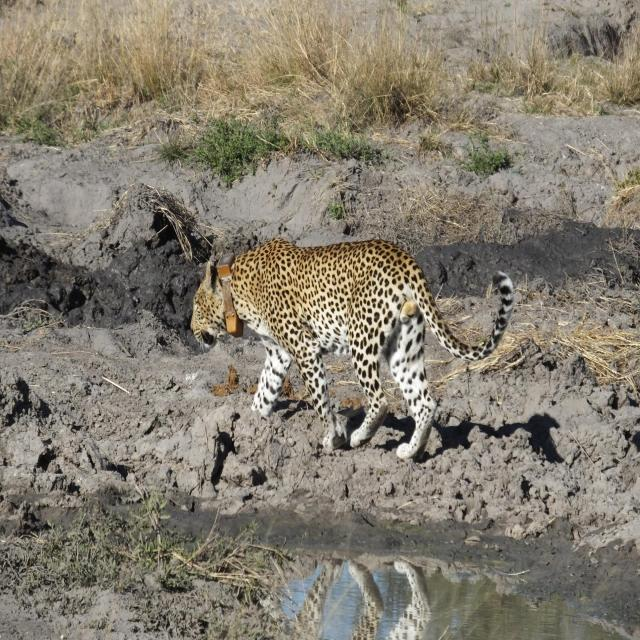Leopard: (195, 224, 514, 450)
